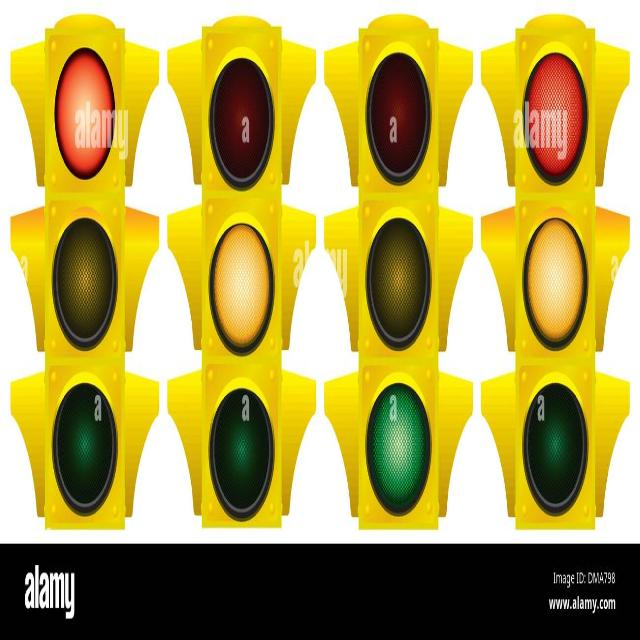green-lights: (366, 366, 435, 520)
red-lights: (54, 39, 114, 180)
yellow-lights: (518, 192, 598, 369), (209, 202, 285, 374)
